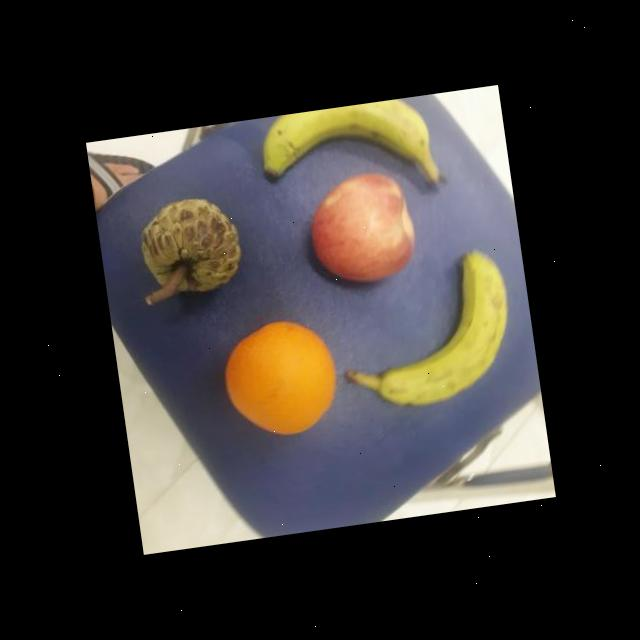Sakya fruit: (134, 191, 248, 302)
apple: (301, 167, 421, 290)
banana: (358, 246, 520, 408), (252, 95, 438, 187)
orange: (218, 314, 344, 444)
